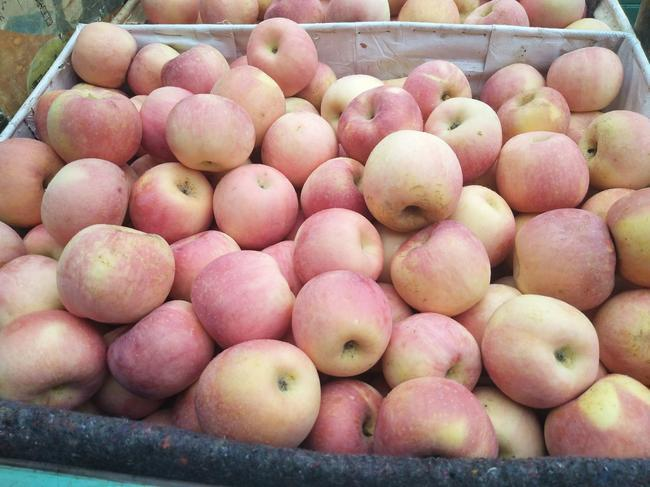apple: (188, 340, 319, 448), (480, 293, 601, 406), (56, 222, 175, 326), (103, 299, 215, 399), (186, 249, 295, 350), (292, 269, 392, 379), (360, 130, 462, 233), (514, 207, 617, 308), (4, 310, 107, 410), (392, 220, 493, 318), (389, 219, 490, 317), (375, 378, 493, 461), (544, 376, 649, 460), (495, 130, 590, 215), (46, 81, 142, 165), (210, 161, 297, 246), (384, 311, 479, 388), (165, 93, 256, 172), (41, 158, 129, 239), (127, 161, 213, 240), (336, 83, 423, 160), (425, 97, 500, 182), (258, 109, 337, 183), (243, 18, 317, 97), (578, 109, 650, 189), (449, 184, 515, 271), (309, 379, 383, 453), (545, 45, 623, 113), (591, 288, 649, 379), (476, 384, 544, 458), (69, 21, 138, 89), (1, 253, 64, 326), (162, 44, 227, 95)
